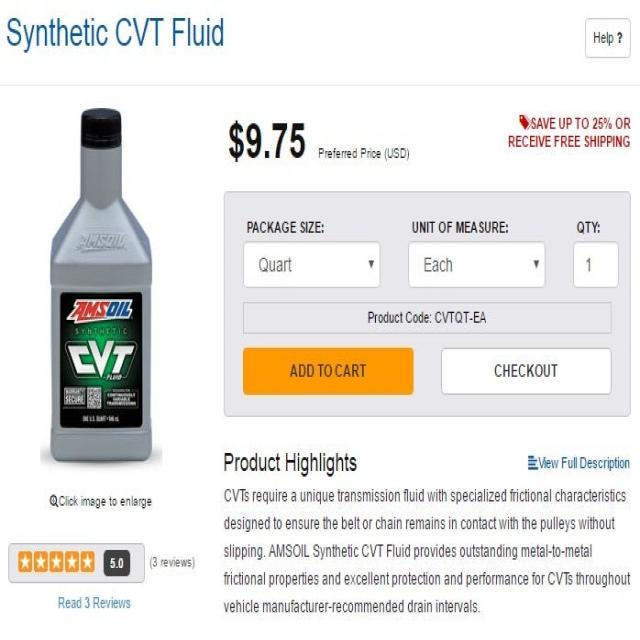-oil-: (42, 101, 159, 464)
